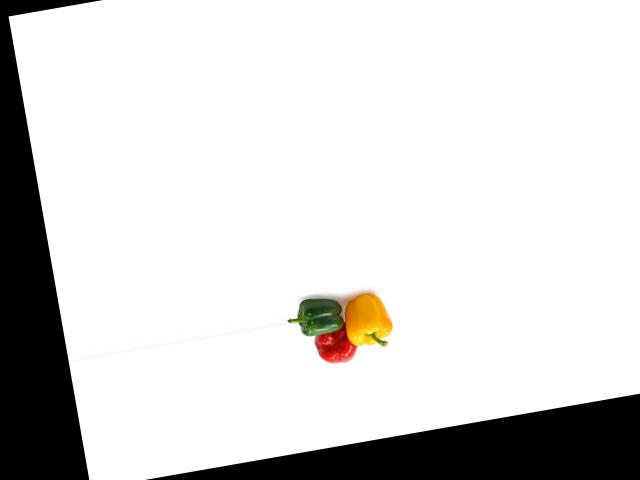bell_pepper: (289, 291, 356, 344)
